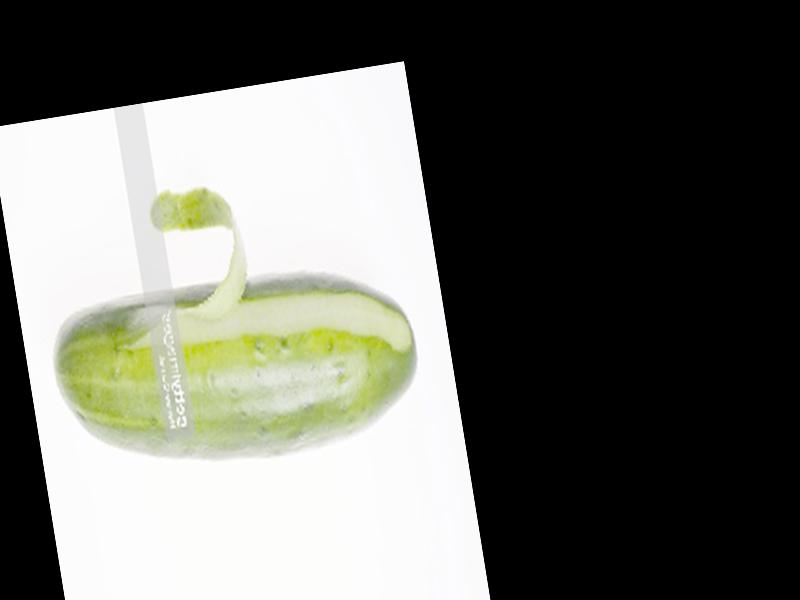Cucumber: (43, 248, 430, 486)
